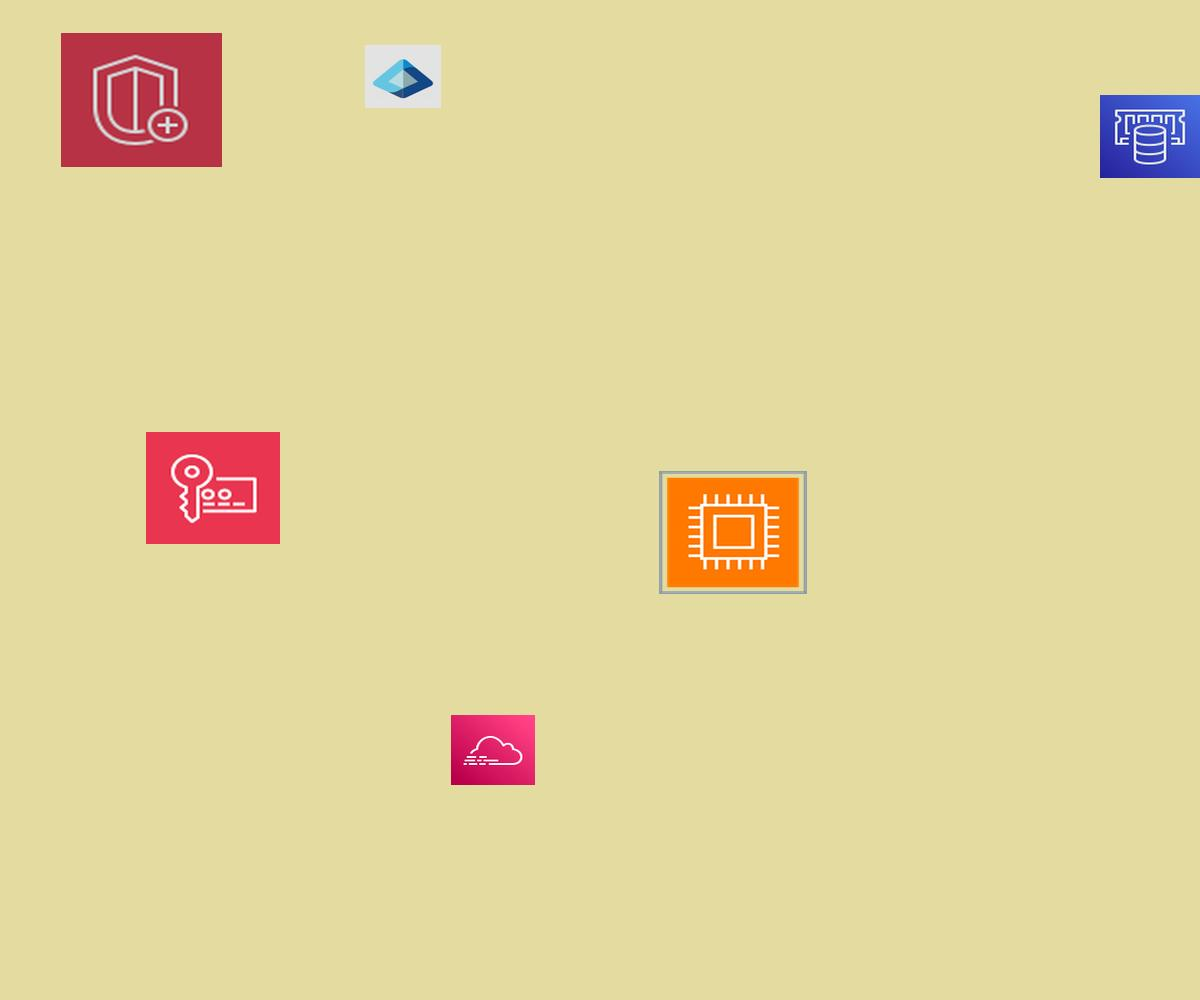AWS-Category_Compute: (659, 471, 807, 594)
AWS-CloudTrail: (451, 715, 535, 785)
AWS-ElastiCache: (1100, 95, 1200, 178)
AWS-Key-Management-Service: (146, 432, 280, 544)
AWS-Shield: (61, 33, 222, 167)
Azure_microsoft_entra: (365, 45, 441, 108)
